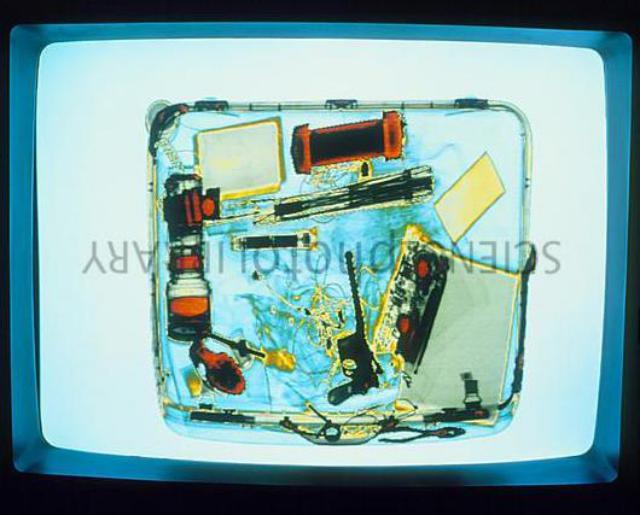Gun: (322, 248, 380, 405)
